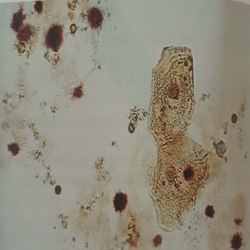Epithelial: (142, 41, 213, 232)
